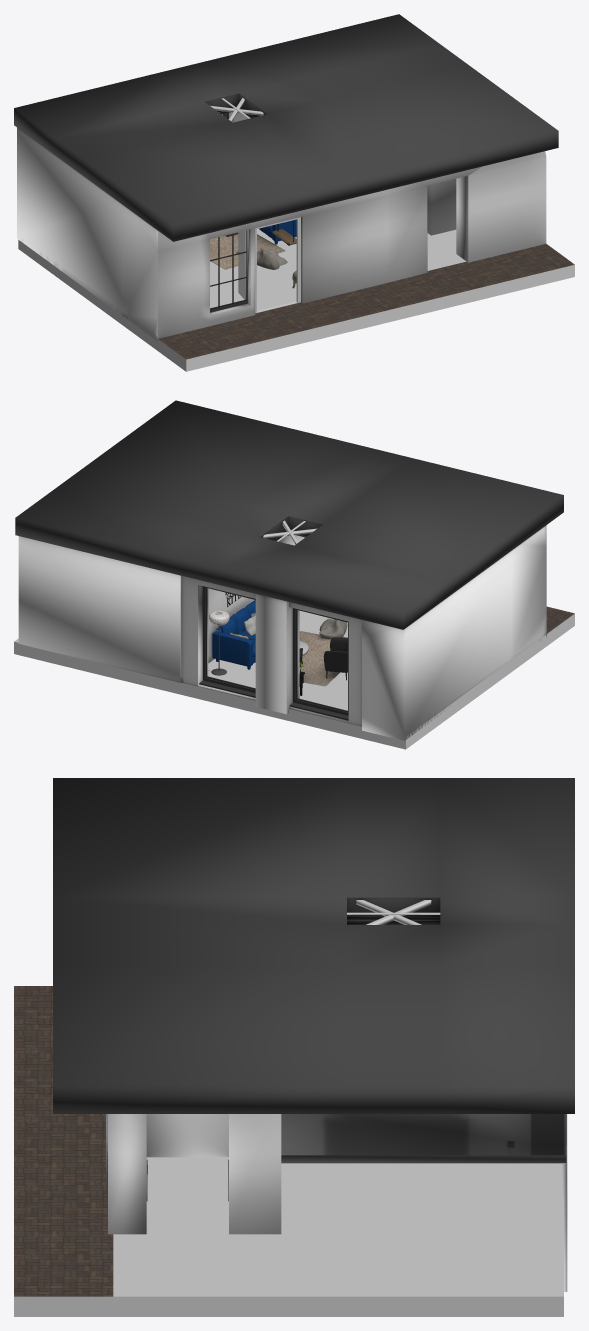
Rendered from room.gltf.
3 views of the same model, one above another, from view 1: azimuth 30°, elevation 25°; view 2: azimuth 150°, elevation 25°; view 3: azimuth 270°, elevation 25° (orthographic). The views are drawn at different scales.
Parts seen in each view (by area): view 1: SM_ceiling, SM_wall, SM_floor_exterior, SM_floor_trim.001, SM_floor_trim, SM_carpet, SM_door_frame, SM_window_frames_001, SM_door, SM_cushions; view 2: SM_ceiling, SM_wall, SM_floor_trim.001, SM_floor_trim, SM_window_frames, SM_sofa_long, SM_carpet, SM_arm_chair_001, SM_cushions, SM_lamp_standing; view 3: SM_ceiling, SM_floor_trim, SM_wall, SM_floor_exterior, SM_floor_trim.001, SM_ceiling_structure.
Boxes of the visible parts, x1,y1,x2,y2 form: SM_ceiling: [14, 14, 558, 241]; SM_wall: [17, 112, 546, 341]; SM_floor_exterior: [158, 243, 574, 359]; SM_floor_trim.001: [18, 240, 574, 371]; SM_floor_trim: [210, 229, 466, 310]; SM_carpet: [210, 234, 285, 269]; SM_door_frame: [255, 217, 300, 313]; SM_window_frames_001: [210, 230, 247, 312]; SM_door: [236, 230, 245, 299]; SM_cushions: [257, 248, 287, 269]; SM_ceiling: [15, 400, 563, 629]; SM_wall: [18, 525, 546, 740]; SM_floor_trim.001: [14, 613, 574, 749]; SM_floor_trim: [14, 610, 347, 710]; SM_window_frames: [199, 586, 348, 720]; SM_sofa_long: [212, 600, 255, 669]; SM_carpet: [299, 631, 339, 686]; SM_arm_chair_001: [323, 637, 347, 680]; SM_cushions: [230, 613, 347, 638]; SM_lamp_standing: [209, 610, 229, 675]; SM_ceiling: [53, 778, 574, 1113]; SM_floor_trim: [113, 1157, 563, 1296]; SM_wall: [106, 1114, 567, 1291]; SM_floor_exterior: [14, 986, 113, 1296]; SM_floor_trim.001: [14, 1296, 563, 1316]; SM_ceiling_structure: [347, 900, 440, 924].
Size of what is drawn, in the model's own units: 9.99 by 3.36 by 7.52.
